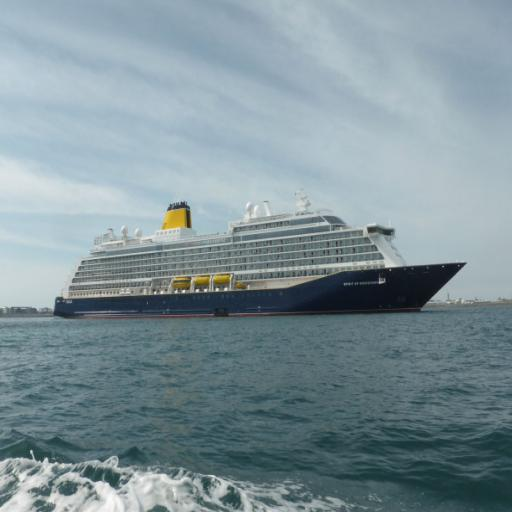cruises: (51, 188, 473, 312)
